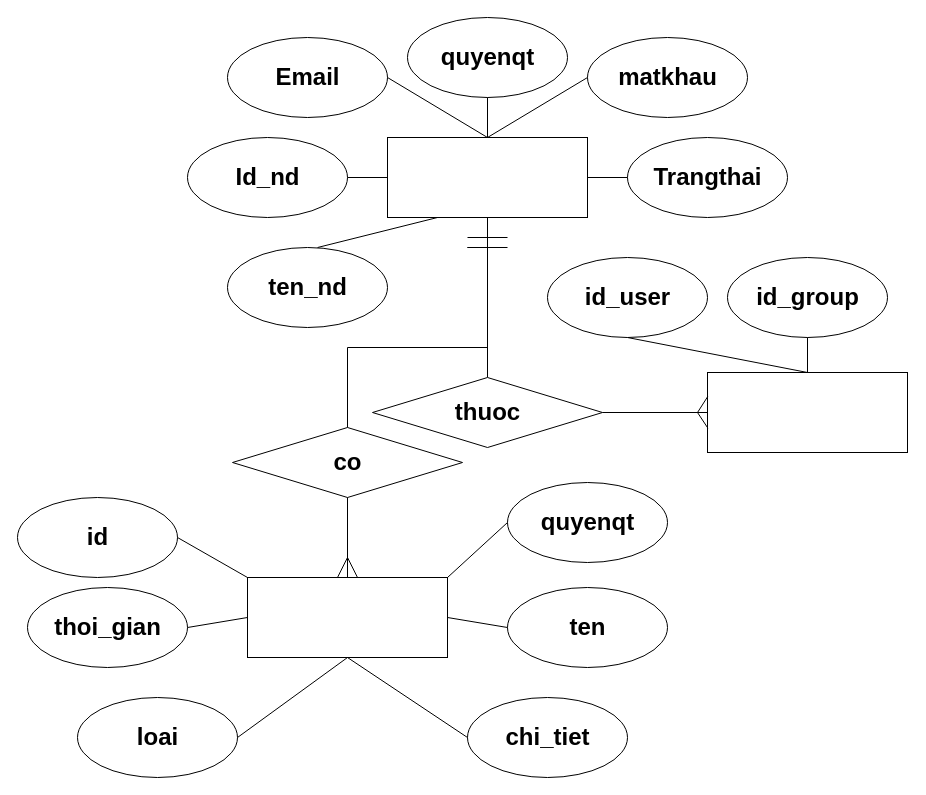
Image size: 926x795. Some labels were removed from this diagram. Each missing label, with the centre of its shape:
"lich_su" goes at [347,617].
"nguoi_dung" goes at [487,177].
"nhom_nguoidung" goes at [807,412].
